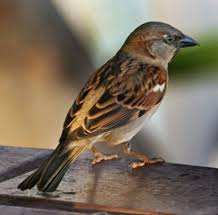hsparrow: (15, 19, 203, 202)
